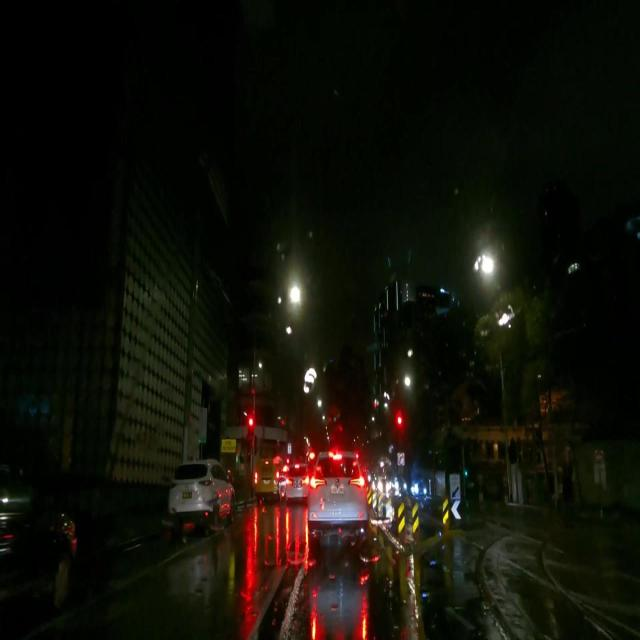Car: (305, 443, 367, 536), (166, 456, 233, 529)
